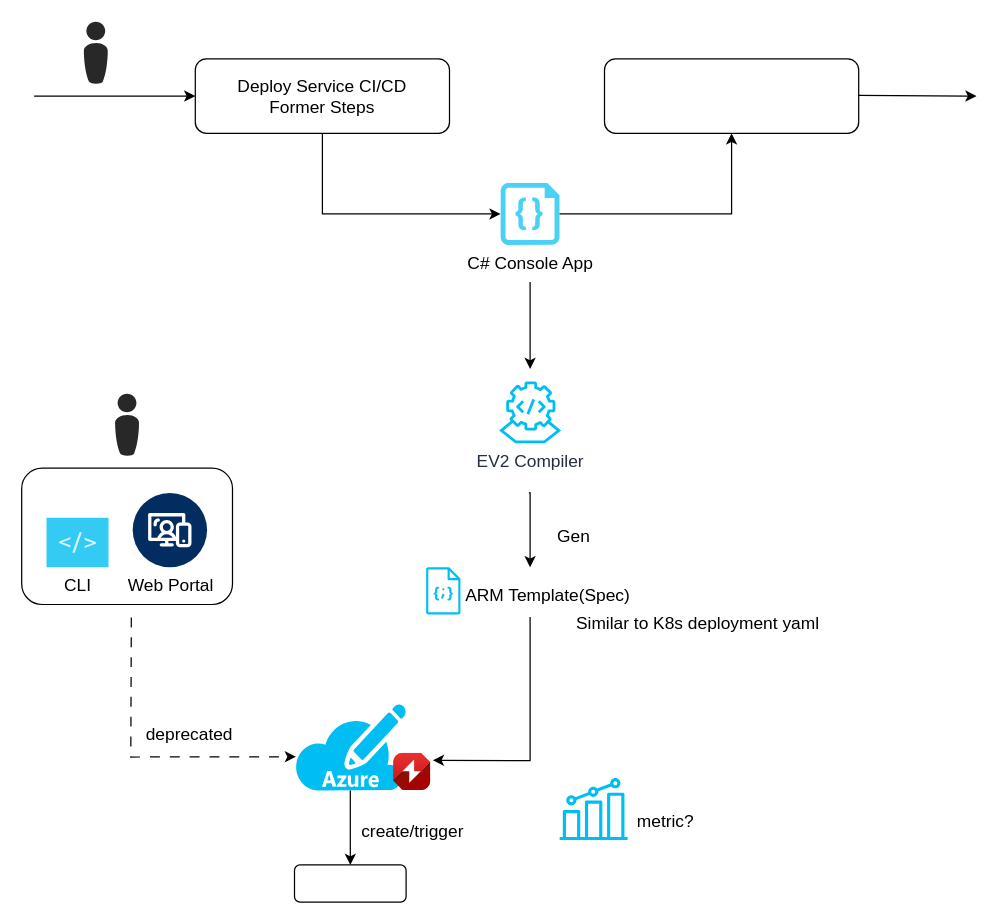
This 1008x924 diagram has some shape labels left out. Here are the shapes that lost their labels. From the top down, the centre of each, then its label:
pixel 731 95: Deploy Service CI/CD Later Steps
pixel 349 883: Experiment
